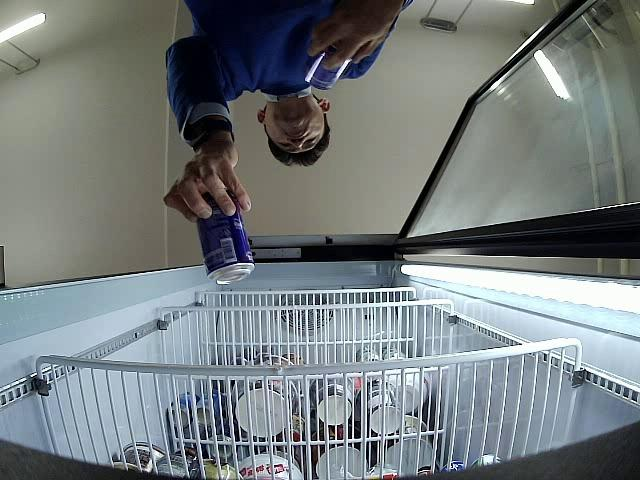00_hand: (307, 0, 404, 69), (164, 147, 252, 223)
14_welchsGrape: (195, 191, 254, 285), (305, 45, 353, 91)
